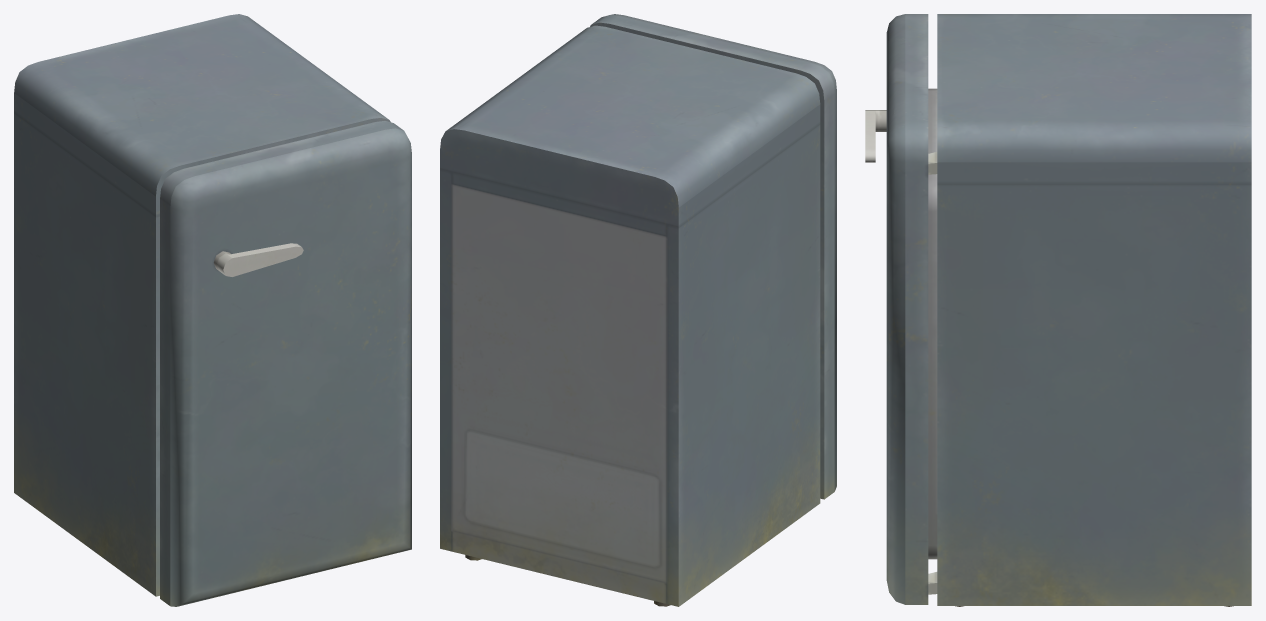
File: Ht_bingxiang_01.fbx
The picture shows the model from 3 angles, left to right: view 1: azimuth 30°, elevation 25°; view 2: azimuth 150°, elevation 25°; view 3: azimuth 270°, elevation 25°; orthographic projection. The views are drawn at different scales.
Parts seen in each view (by area): view 1: Ht_bingxiang_02, Ht_bingxiang_01; view 2: Ht_bingxiang_01, Ht_bingxiang_02; view 3: Ht_bingxiang_01, Ht_bingxiang_02.
Part boxes in pixels (x1,y1,x2,y2): Ht_bingxiang_02: (160, 121, 411, 606); Ht_bingxiang_01: (14, 14, 390, 596); Ht_bingxiang_01: (440, 25, 820, 606); Ht_bingxiang_02: (590, 14, 836, 499); Ht_bingxiang_01: (928, 14, 1251, 606); Ht_bingxiang_02: (865, 14, 937, 604).
Size of the model in its own units: 45.91 by 57.89 by 79.59.
